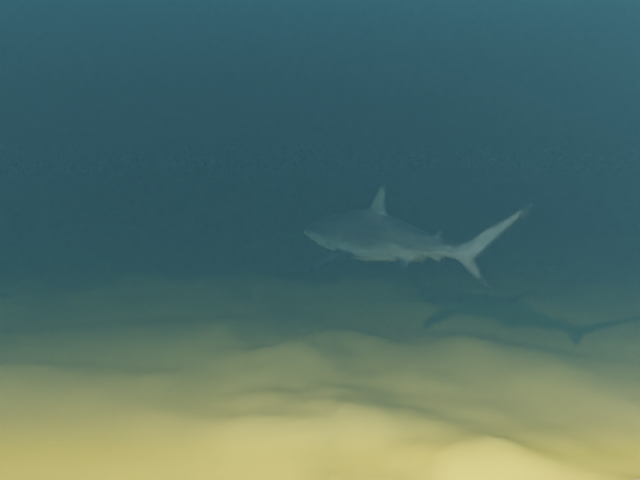Carribean Shark.001: (303, 182, 533, 287)
